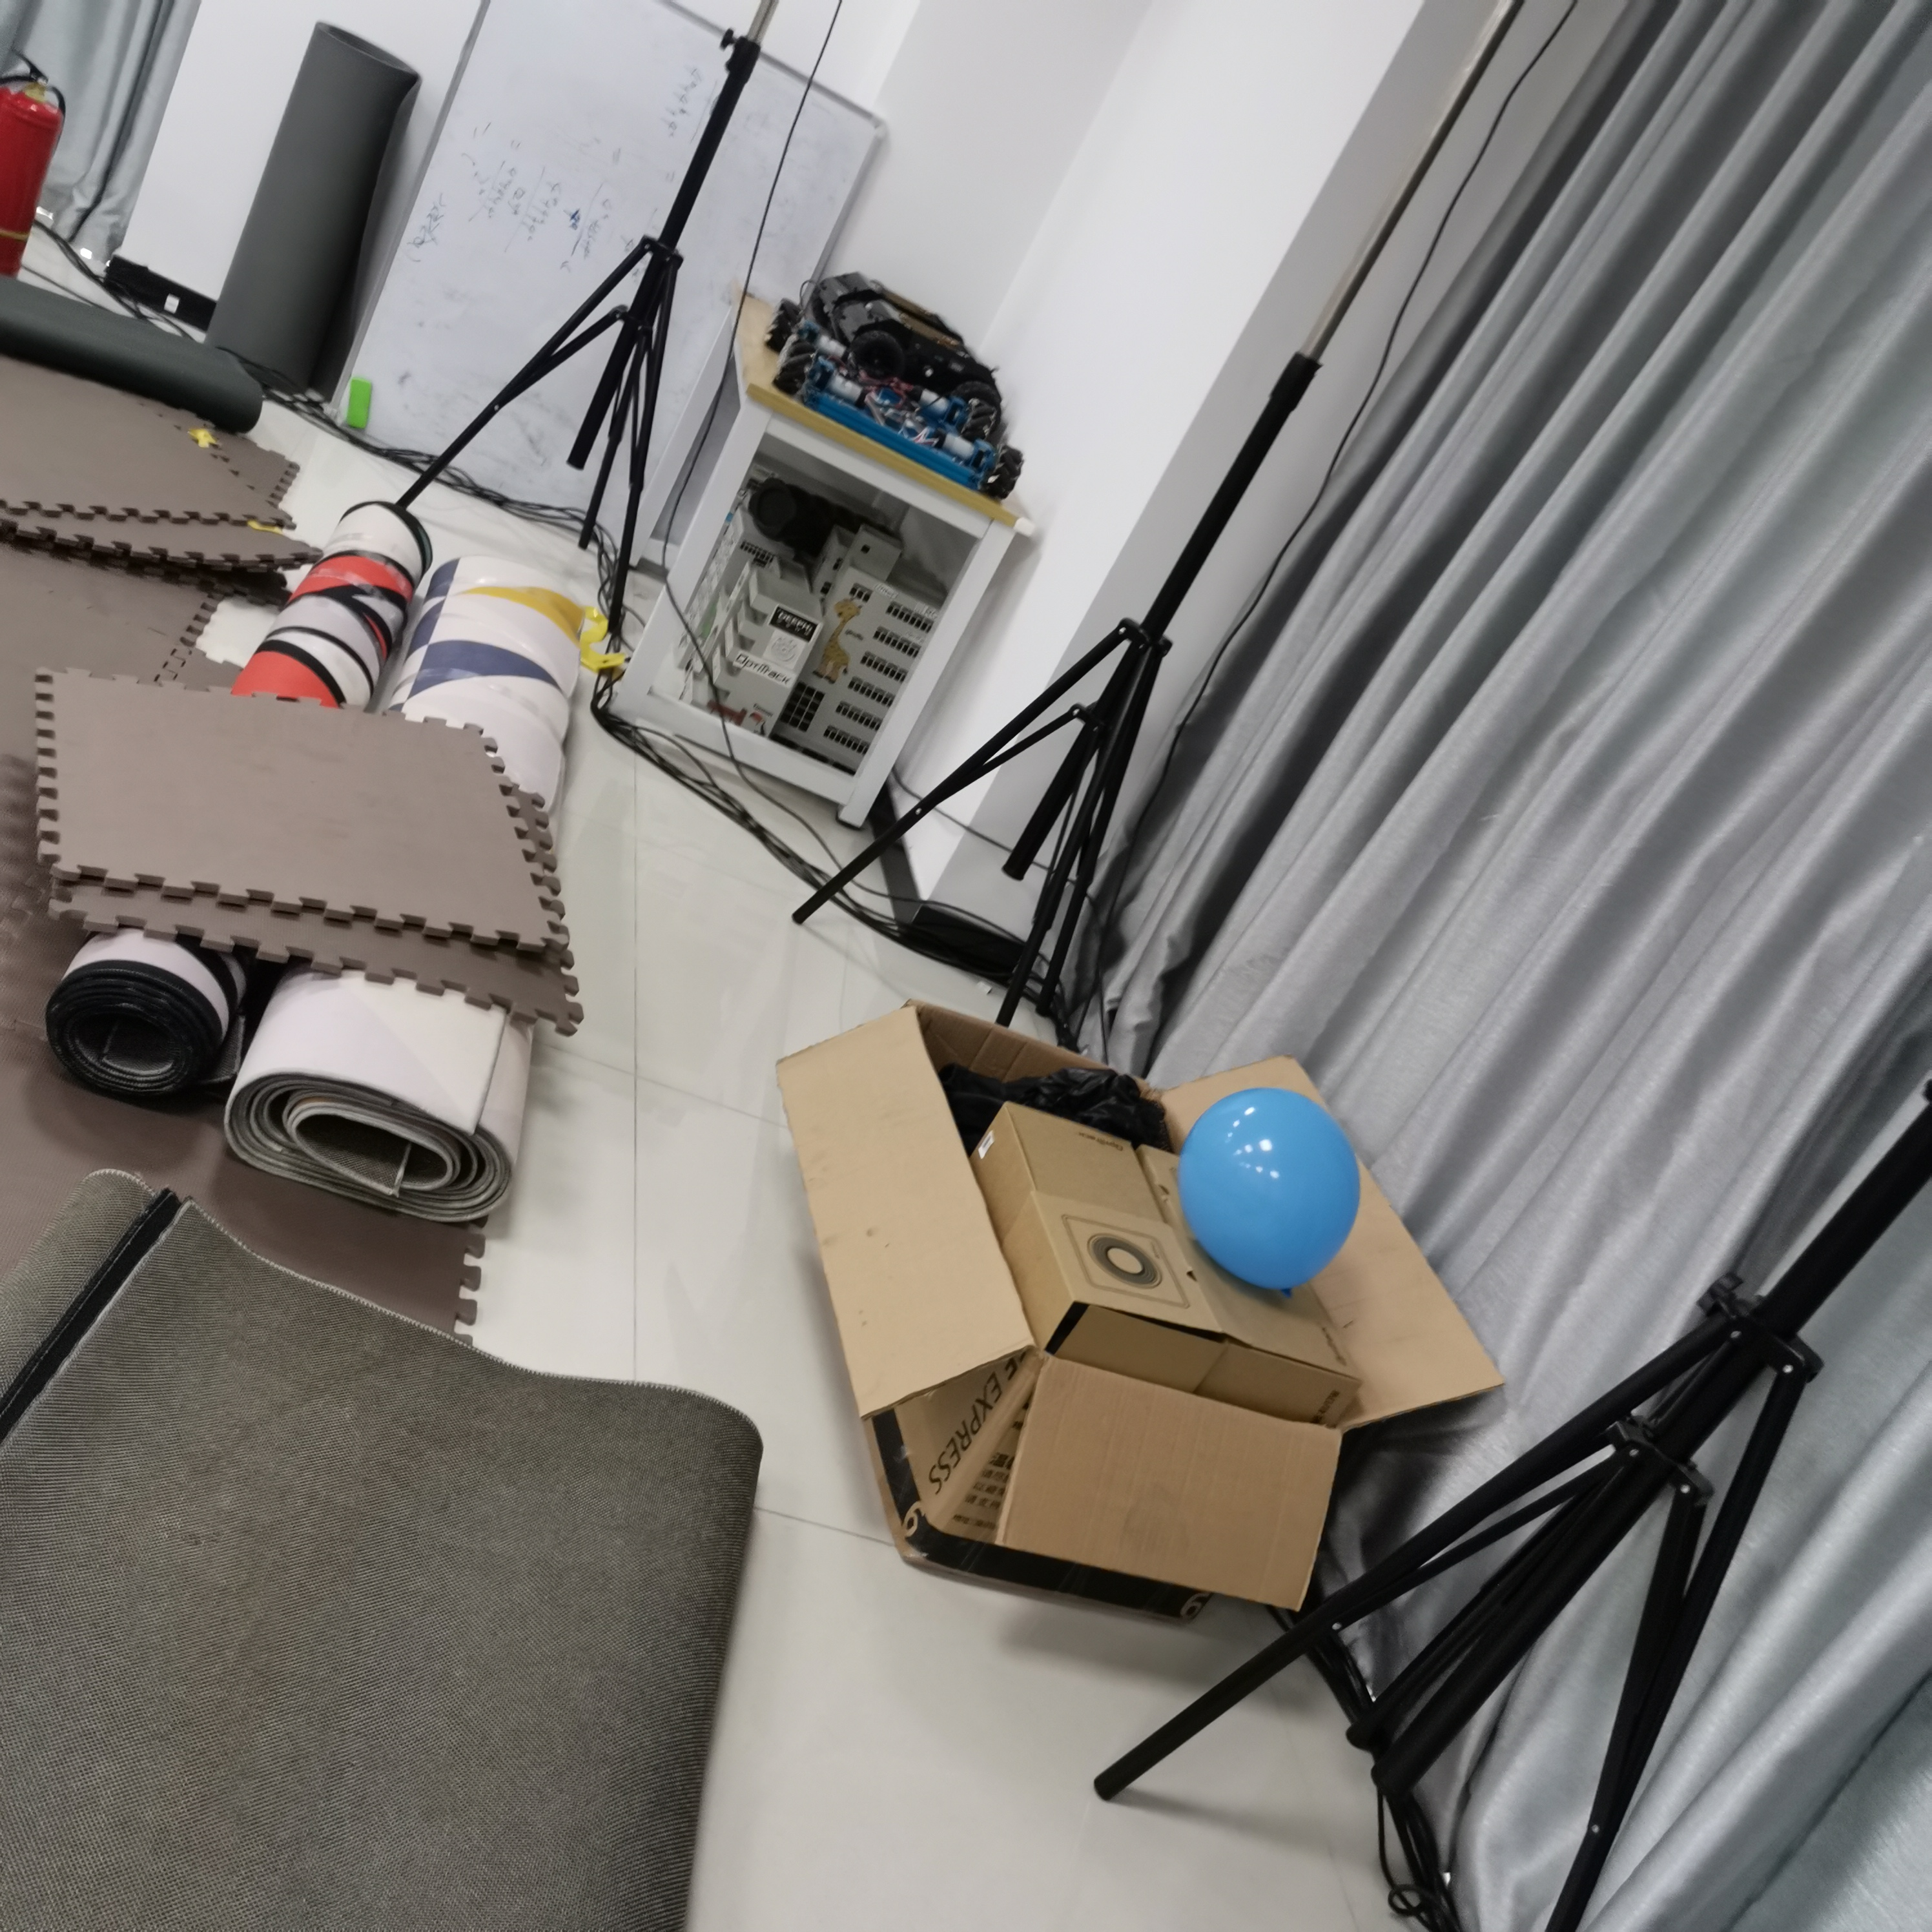balloon: (1178, 1086, 1361, 1295)
